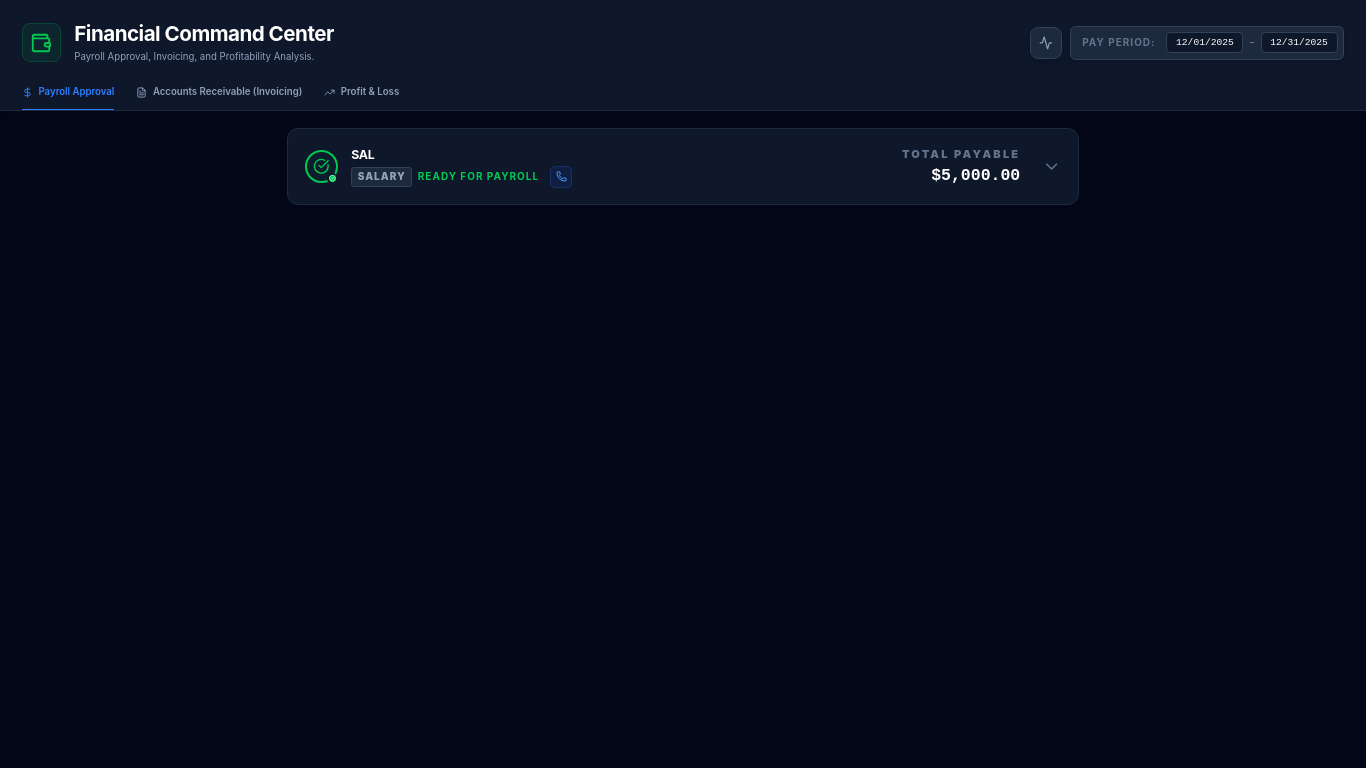
Test: Settlements deep coverage › pay model calculations › salary pay model
Step 1. Click the heading "Sal" → (363, 154), box [351,147,374,162]
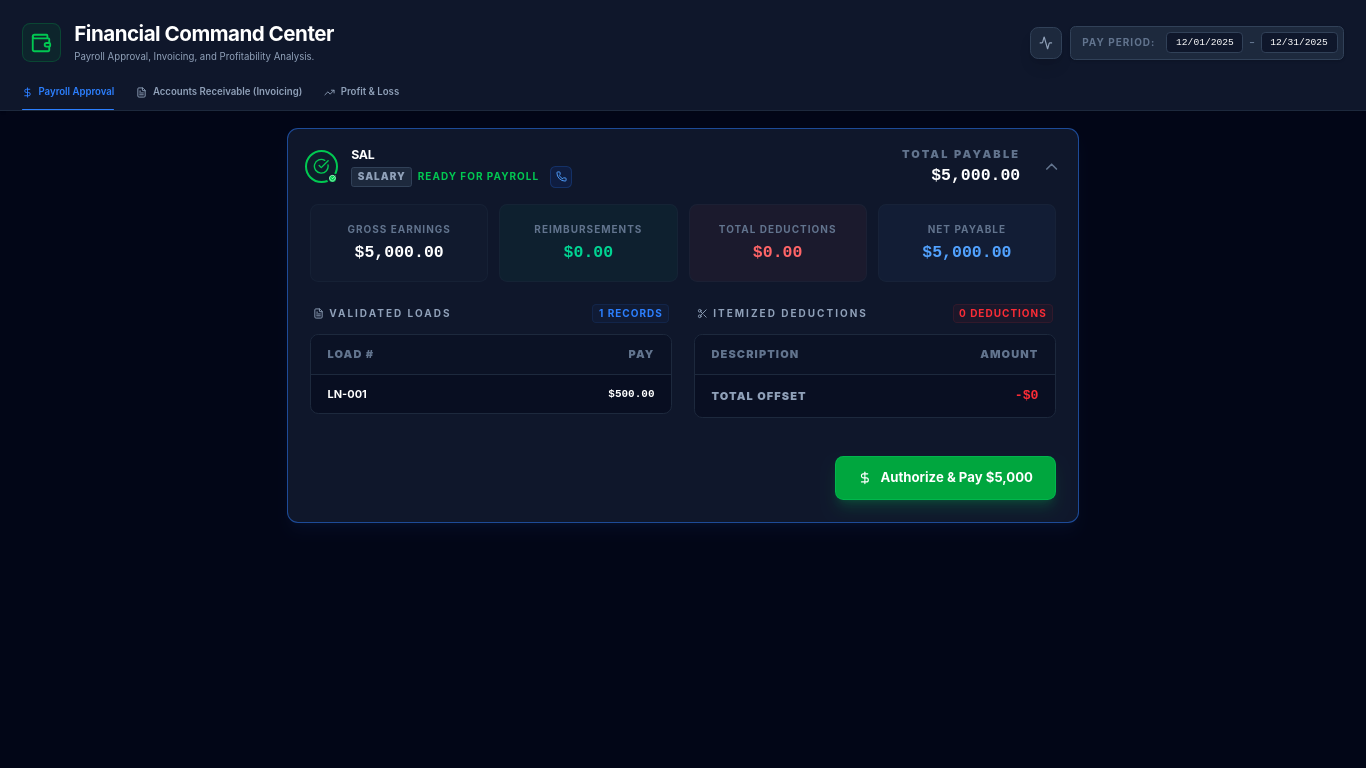
Now the text "Gross Earnings" is shown, box [347,222,451,237]
